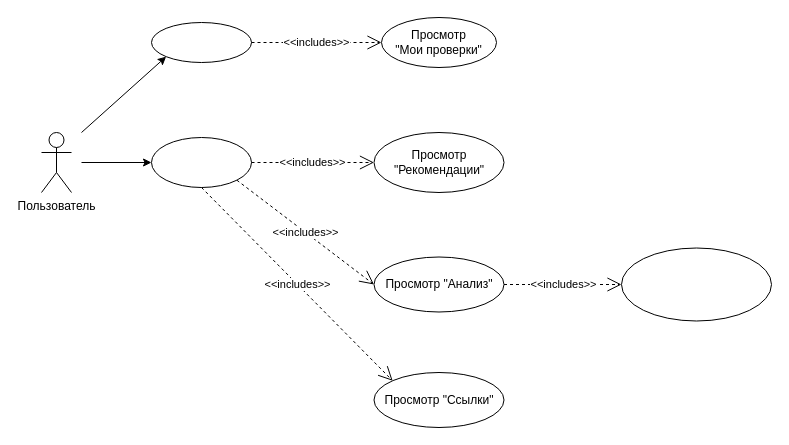
Image size: 789x445. Some labels were removed from this diagram. Here are the shapes that lost their labels. From the top down, the box of each, then its label:
(150, 22, 252, 62): Вход в систему
(150, 136, 252, 188): Главная страница
(620, 247, 772, 321): Просмотр любой доп информации
